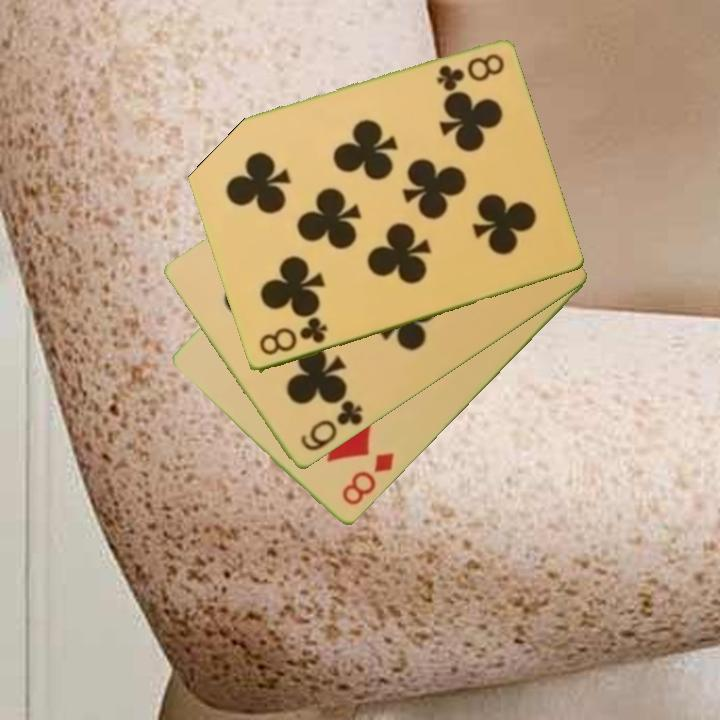6c: (296, 397, 366, 455)
8c: (255, 314, 330, 359), (432, 50, 507, 93)
8d: (338, 449, 397, 510)
